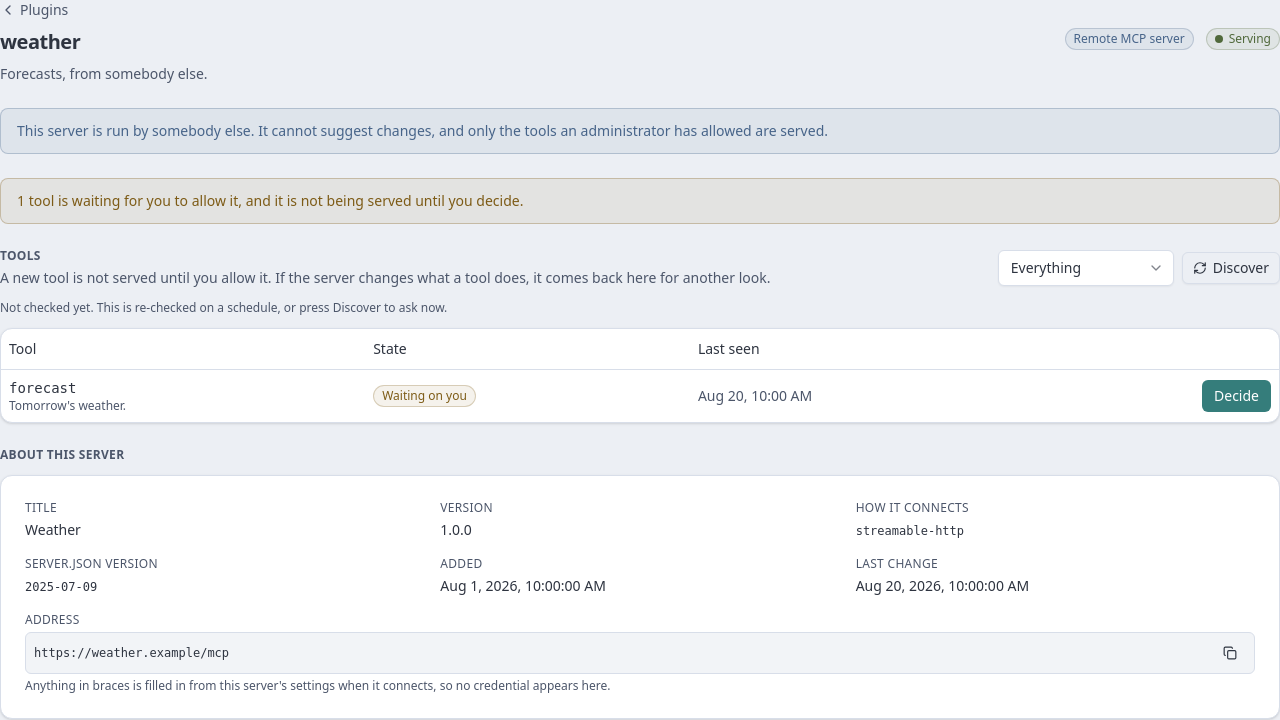
Test case: a remote MCP server's plugin page › opens the classify dialog for the descriptor that was on screen
Step 1. Click the button "Decide" → {"x": 1236, "y": 396}, box left=1202, top=380, right=1271, bottom=412
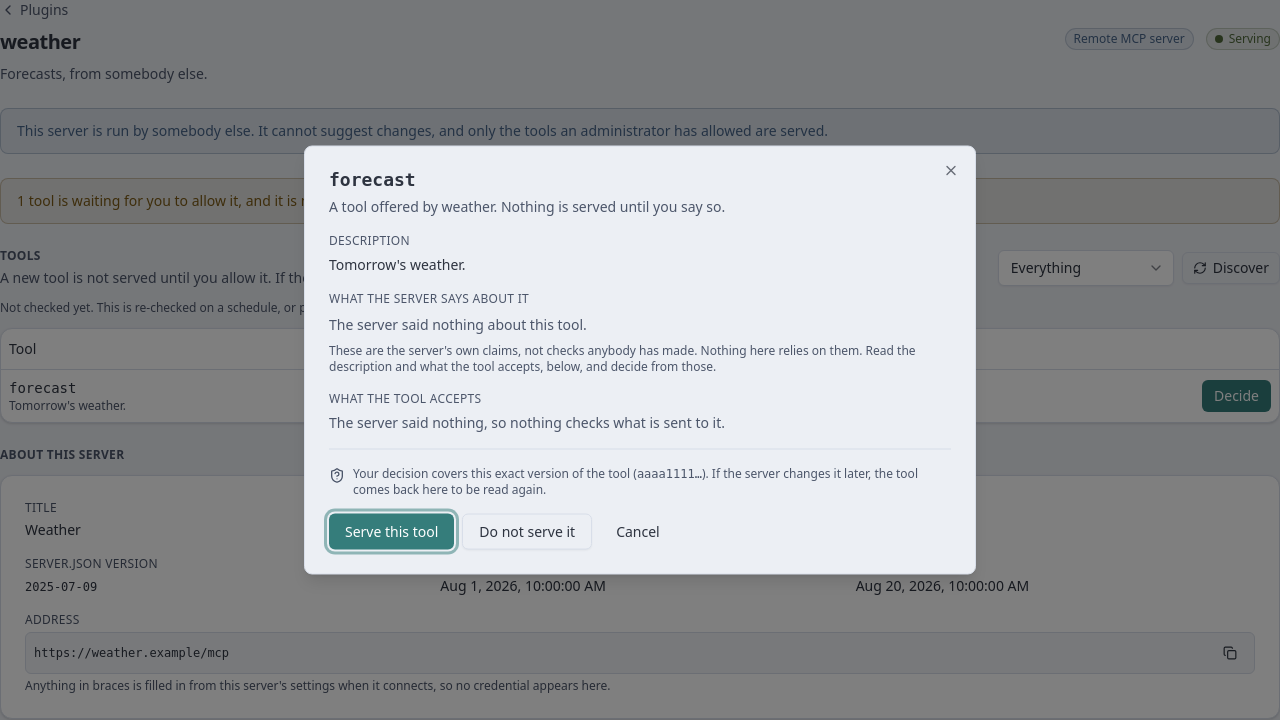
Expected: the dialog is shown, left=304, top=146, right=976, bottom=574
Expected: the text "What the server says about it" is shown, left=329, top=290, right=529, bottom=306
Expected: the text "aaaa1111…" is shown, left=637, top=466, right=702, bottom=480
